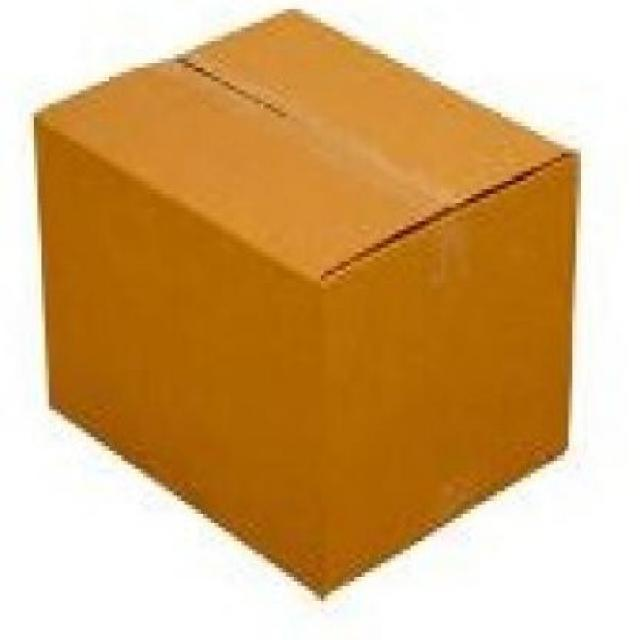box: (29, 2, 583, 600)
